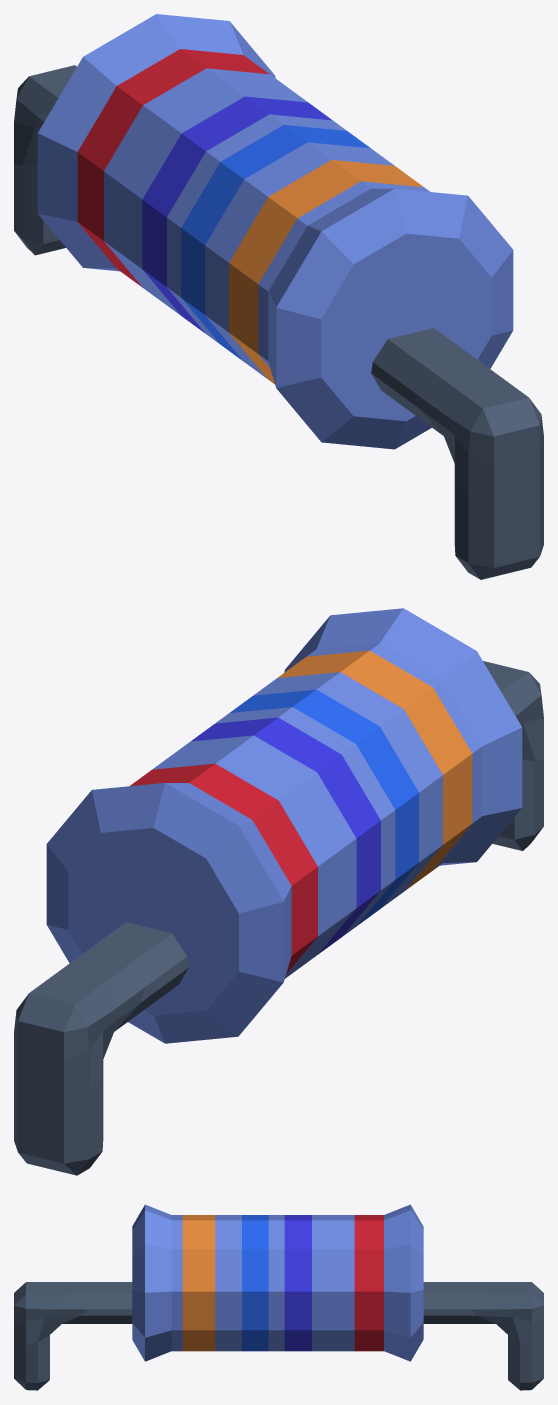
The picture shows the model from 3 angles, top to bottom: view 1: azimuth 30°, elevation 25°; view 2: azimuth 150°, elevation 25°; view 3: azimuth 270°, elevation 25°; orthographic projection. The views are drawn at different scales.
Parts seen in each view (by area): view 1: D 2; view 2: D 2; view 3: D 2.
Boxes of the visible parts, x1,y1,x2,y2 form: D 2: [14, 14, 543, 579]; D 2: [14, 608, 543, 1175]; D 2: [14, 1204, 543, 1390].
Bounding box in the file's own units: 15.35 × 19.07 × 53.38.
